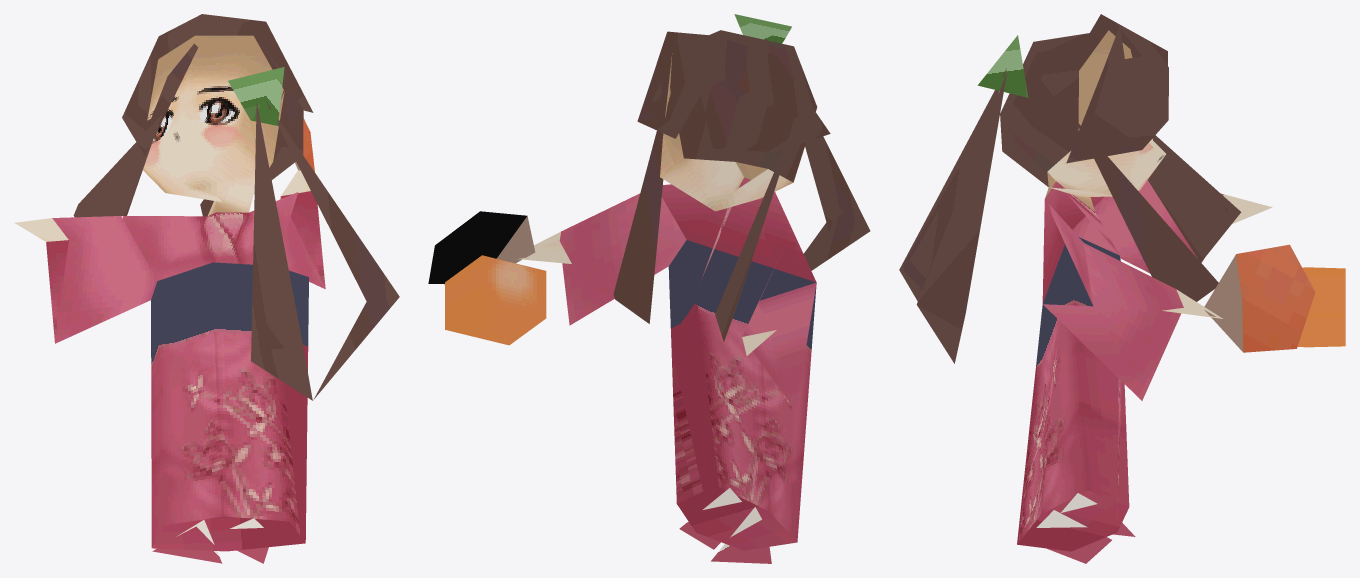
File: ps2_save-icons_ikuzeonsentakkyuu.glb
3 renders of one model, left to right at view 1: azimuth 30°, elevation 25°; view 2: azimuth 150°, elevation 25°; view 3: azimuth 270°, elevation 25°, orthographic.
Parts seen in each view (by area): view 1: ping0.ico; view 2: ping0.ico; view 3: ping0.ico.
Boxes of the visible parts, x1,y1,x2,y2 form: ping0.ico: (14, 14, 399, 563); ping0.ico: (428, 14, 870, 563); ping0.ico: (899, 14, 1345, 563).
Bounding box in the file's own units: 2.37 × 3.79 × 2.99.
1 material, 1 textured.
